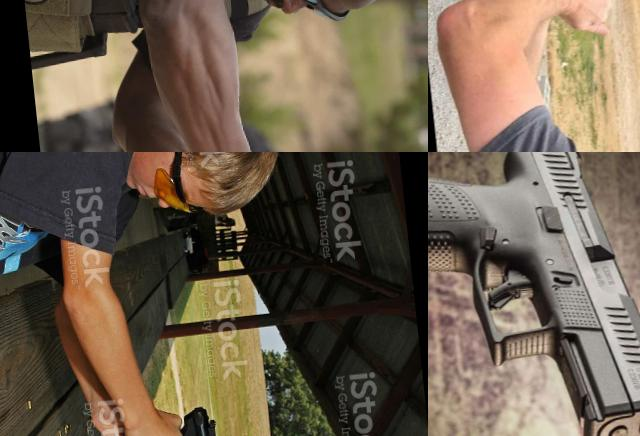handgun: (428, 152, 640, 436), (481, 0, 592, 47), (115, 403, 236, 436)
